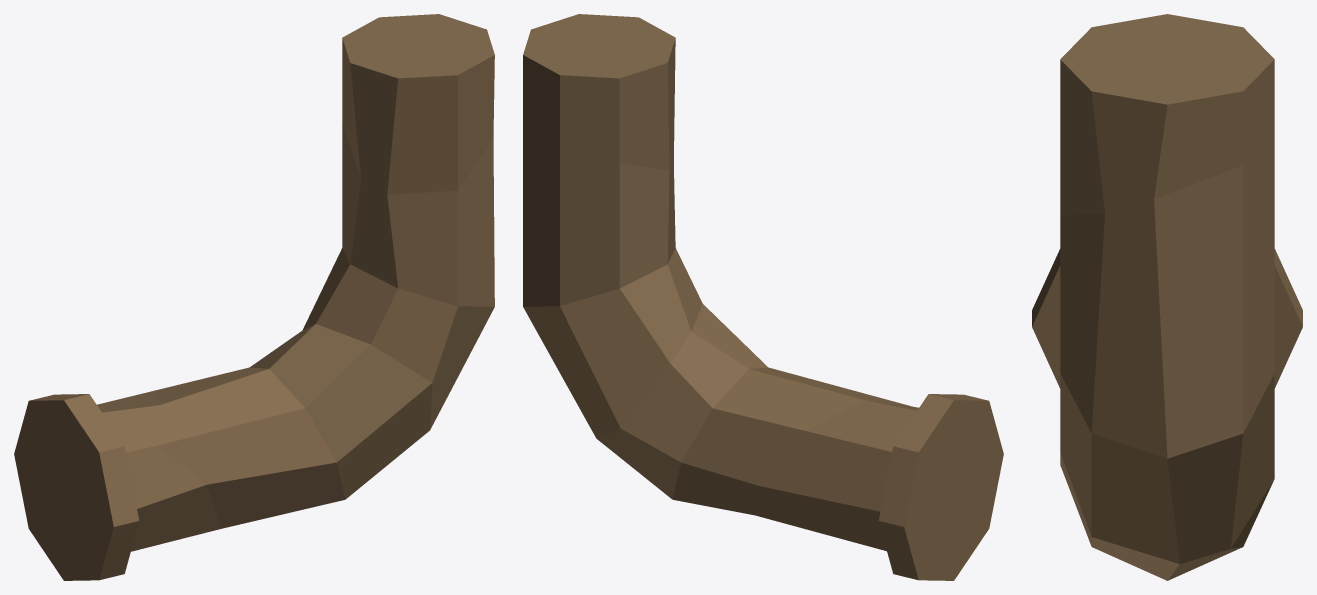
The model's file is SM_Prop_Pipe_01_Corner_02.fbx.
3 renders of one model, left to right at view 1: azimuth 30°, elevation 25°; view 2: azimuth 150°, elevation 25°; view 3: azimuth 270°, elevation 25°, orthographic. The views are drawn at different scales.
Parts seen in each view (by area): view 1: SM_Prop_Pipe_01_Corner_02; view 2: SM_Prop_Pipe_01_Corner_02; view 3: SM_Prop_Pipe_01_Corner_02.
Part boxes in pixels (<box>): SM_Prop_Pipe_01_Corner_02: <box>14,14,494,580</box>; SM_Prop_Pipe_01_Corner_02: <box>523,14,1003,580</box>; SM_Prop_Pipe_01_Corner_02: <box>1032,14,1302,580</box>.
Size of the model in its own units: 92.8 by 93.95 by 37.9.
